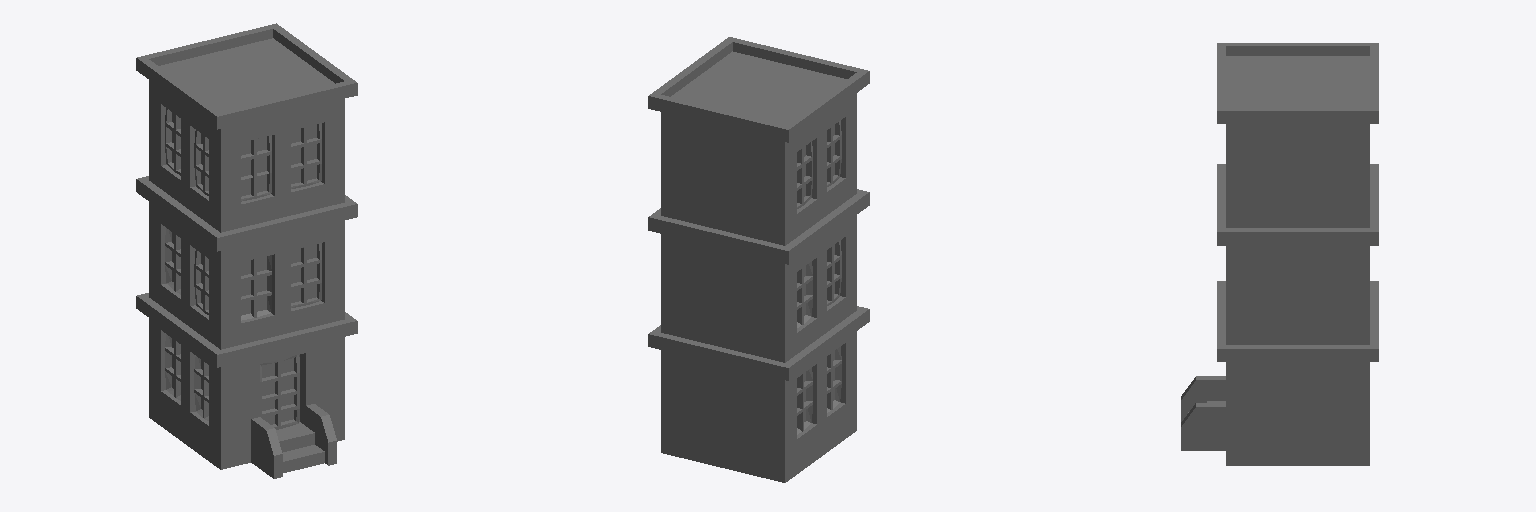
Rendered from S_Building1.obj.
3 renders of one model, left to right at view 1: azimuth 30°, elevation 25°; view 2: azimuth 150°, elevation 25°; view 3: azimuth 270°, elevation 25°, orthographic.
Visible parts, largest first — view 1: SmallBuilding1; view 2: SmallBuilding1; view 3: SmallBuilding1.
Part boxes in pixels (x1,y1,x2,y2): SmallBuilding1: (136,23,357,478); SmallBuilding1: (648,37,869,482); SmallBuilding1: (1181,43,1378,465).
Bounding box in the file's own units: 887 × 2167 × 1086.